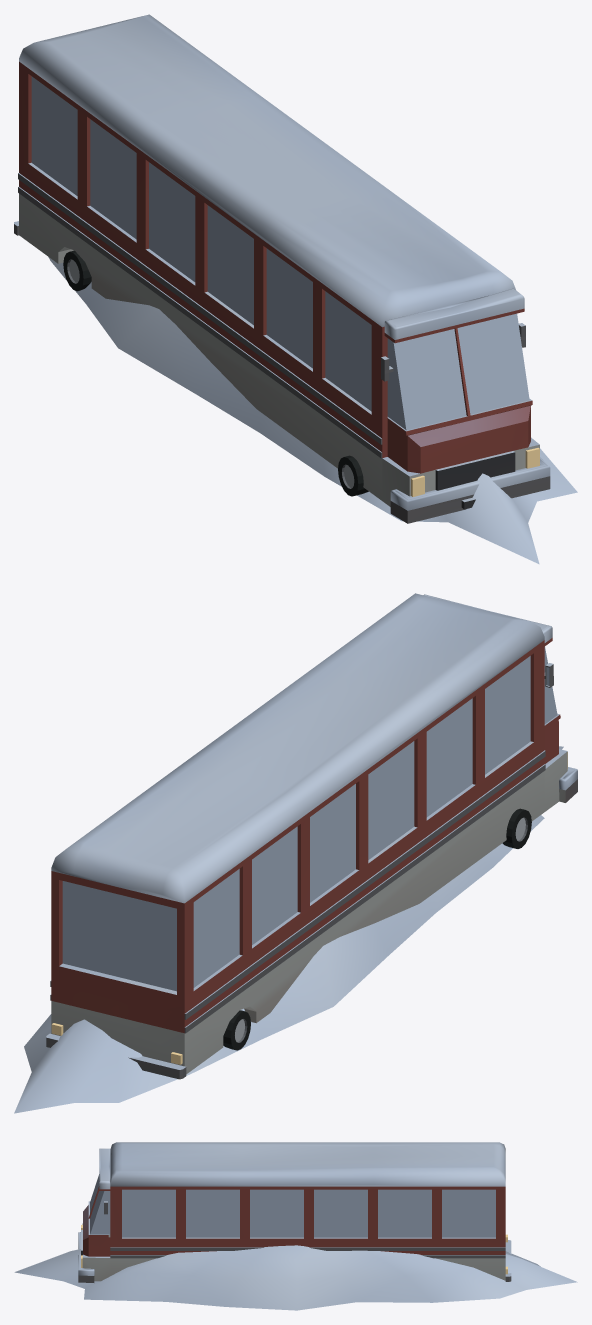
The model's file is bus_snowed.glb.
3 renders of one model, top to bottom at view 1: azimuth 30°, elevation 25°; view 2: azimuth 150°, elevation 25°; view 3: azimuth 270°, elevation 25°, orthographic. The views are drawn at different scales.
Parts seen in each view (by area): view 1: Body; view 2: Body; view 3: Body.
Part boxes in pixels (<box>): Body: <box>14,14,577,564</box>; Body: <box>14,593,577,1113</box>; Body: <box>14,1142,577,1310</box>.
Bounding box in the file's own units: 4.13 × 3.55 × 15.53.
